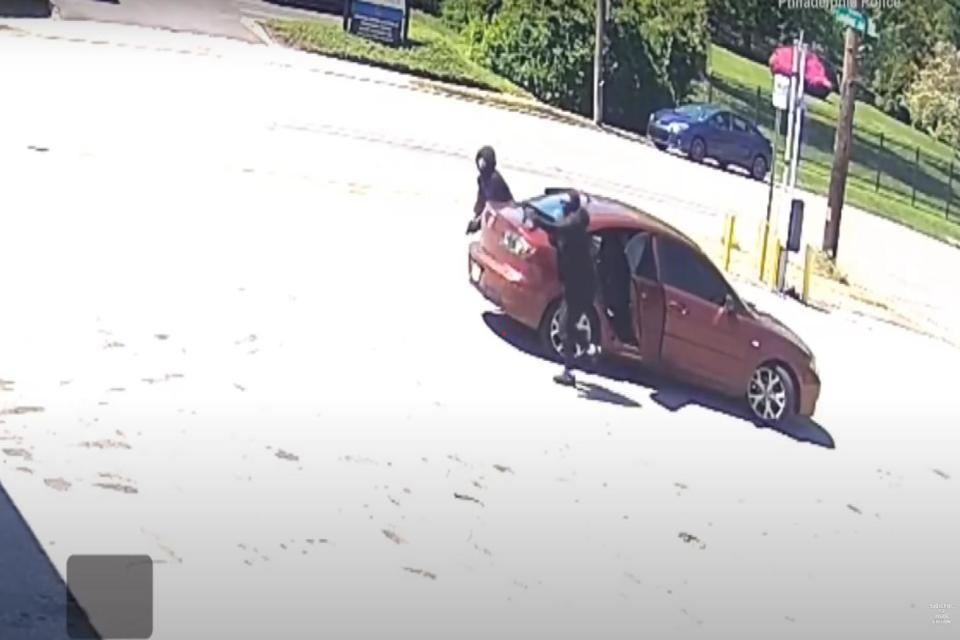non-violence: (518, 185, 606, 398), (460, 144, 518, 244)
weapon: (516, 197, 566, 236), (464, 208, 484, 238)
